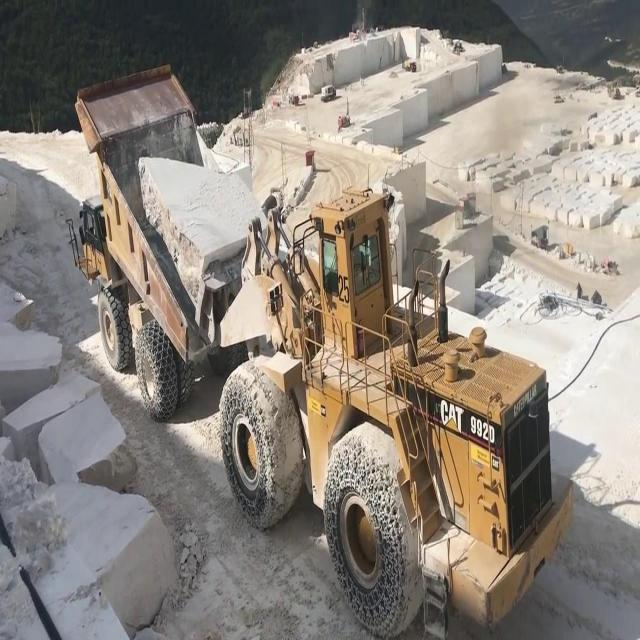Dump Truck: (67, 59, 263, 418)
Loader: (214, 178, 576, 639)
